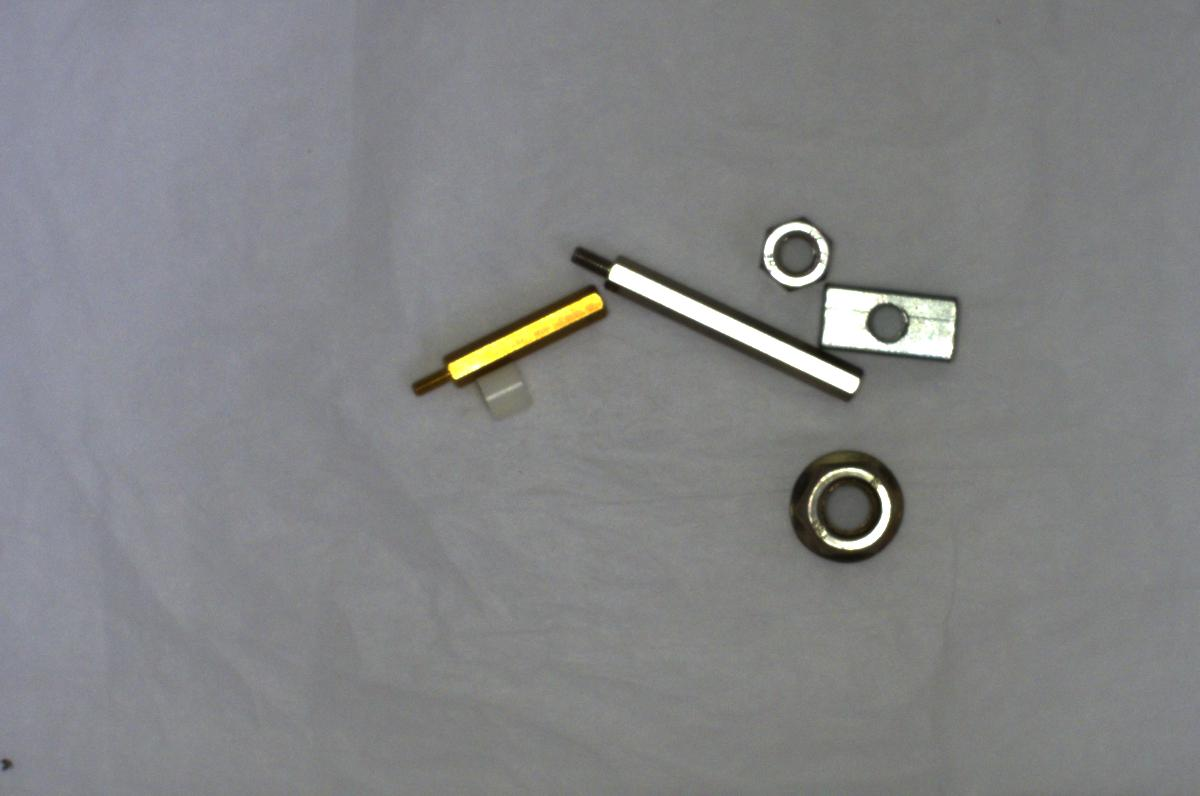Flange nut: (768, 445, 914, 565)
Hexagon nut: (746, 205, 837, 292)
Hexagon pillar: (404, 286, 604, 398)
Hexagonal steel column: (565, 242, 866, 399)
Plastic cushion pillar: (470, 361, 532, 419)
Rectangular nut: (819, 282, 971, 363)
